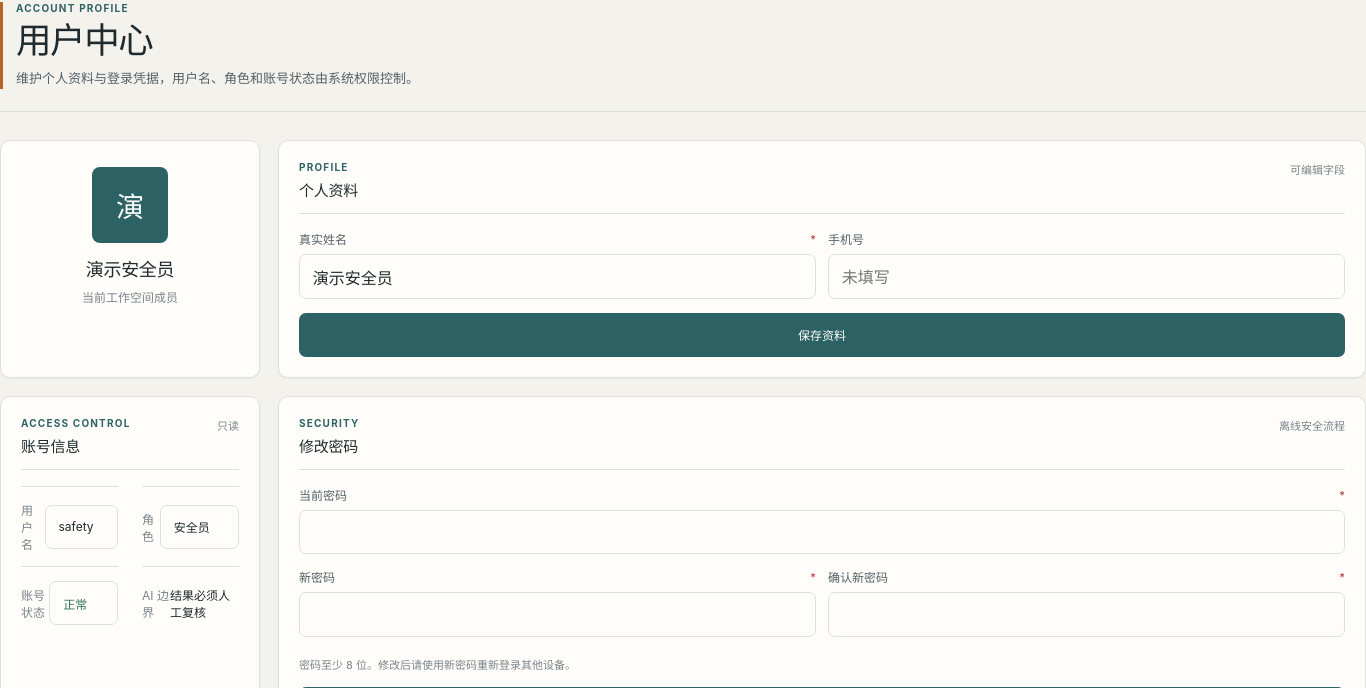
UserProfileView › edits profile fields while keeping identity fields read-only
Replace the text in the field with test id "profile-real-name" with "新的安全员". click: x=558, y=277
box: [299, 254, 816, 299]
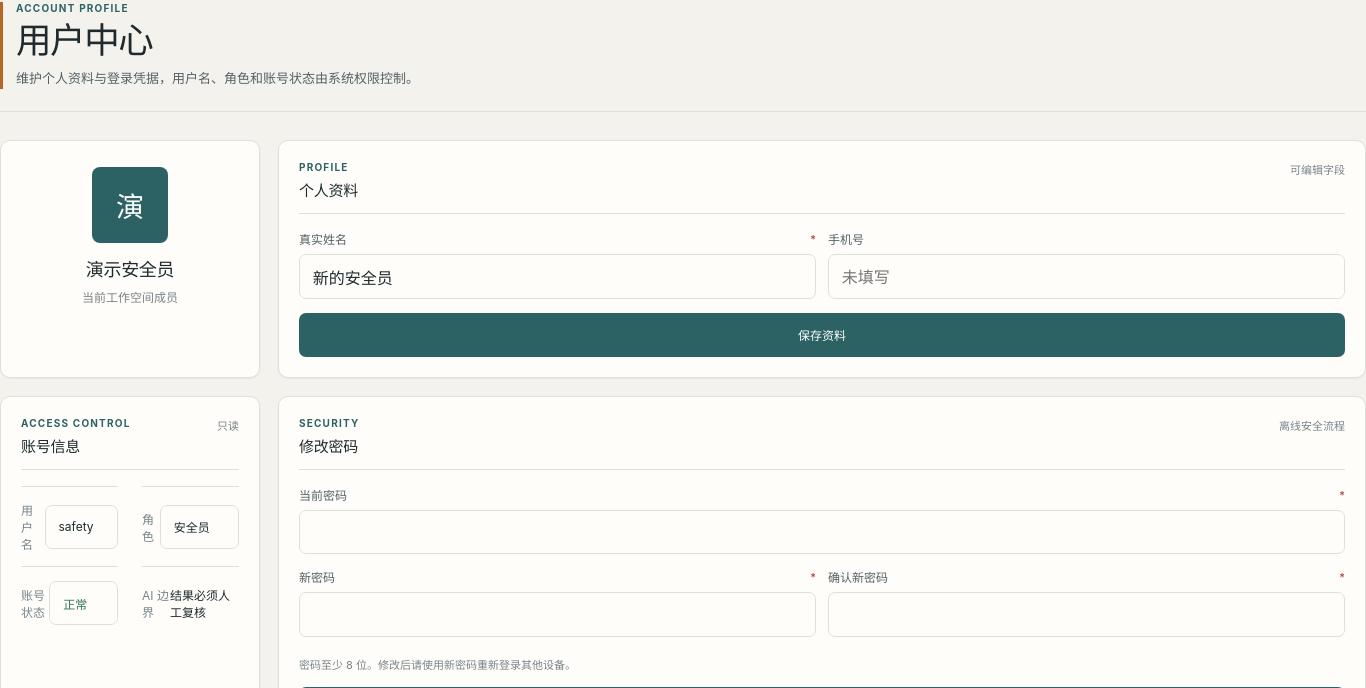
Type "13800000000" into the field with test id "profile-phone". click: x=1086, y=277
box: [828, 254, 1345, 299]
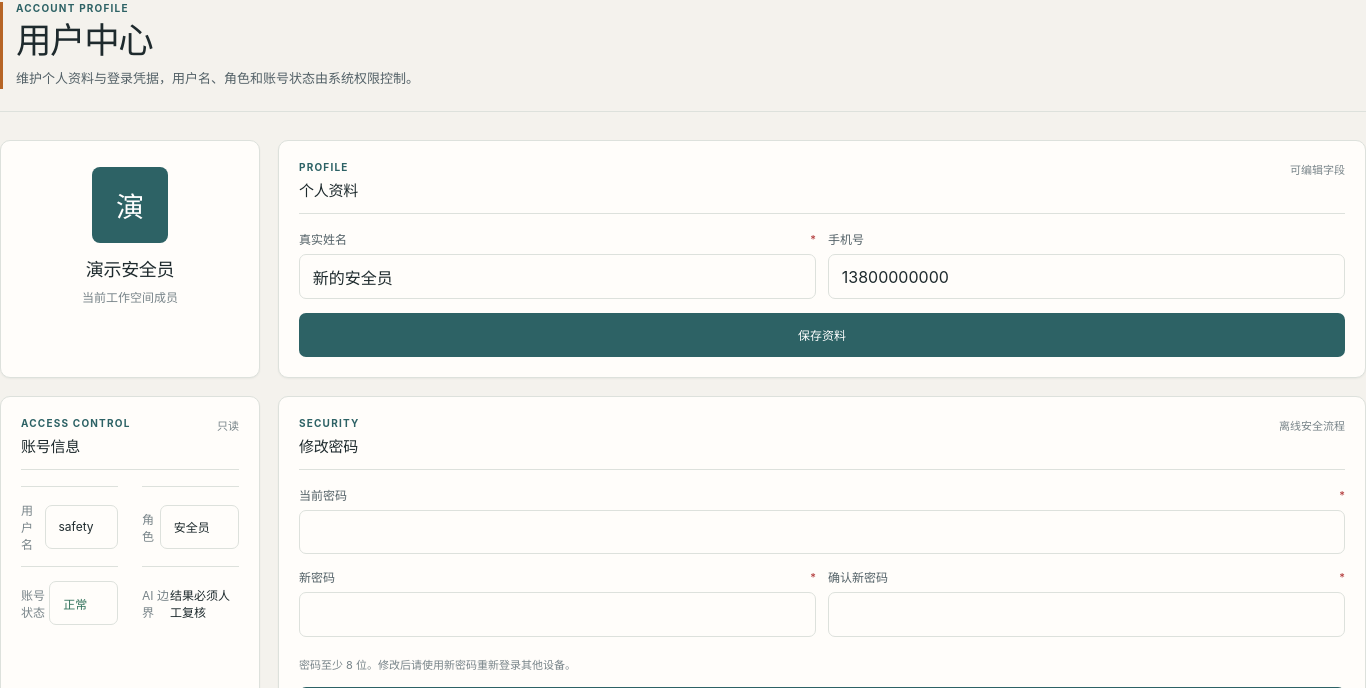
Submit the form with test id "profile-form", box [299, 230, 1345, 357]
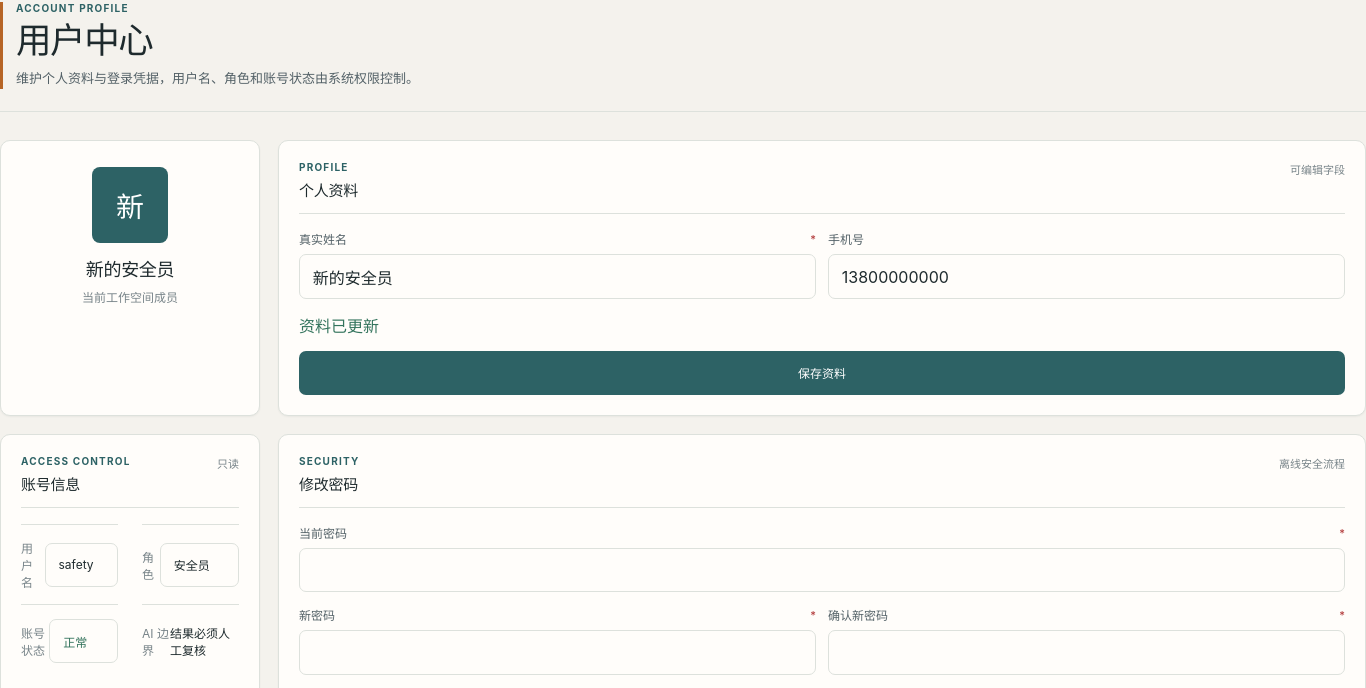
Expected: the field with test id "profile-username" holds "safety", [45, 542, 118, 586]
Now the text "资料已更新" is shown, box [299, 316, 379, 336]
